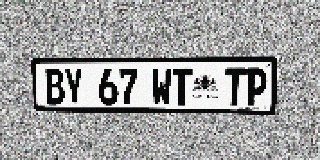6: (98, 68, 118, 105)
7: (118, 68, 138, 105)
B: (44, 68, 65, 105)
P: (245, 68, 268, 106)
T: (224, 68, 246, 106), (172, 68, 192, 106)
W: (152, 68, 171, 105)
Y: (63, 68, 84, 105)
